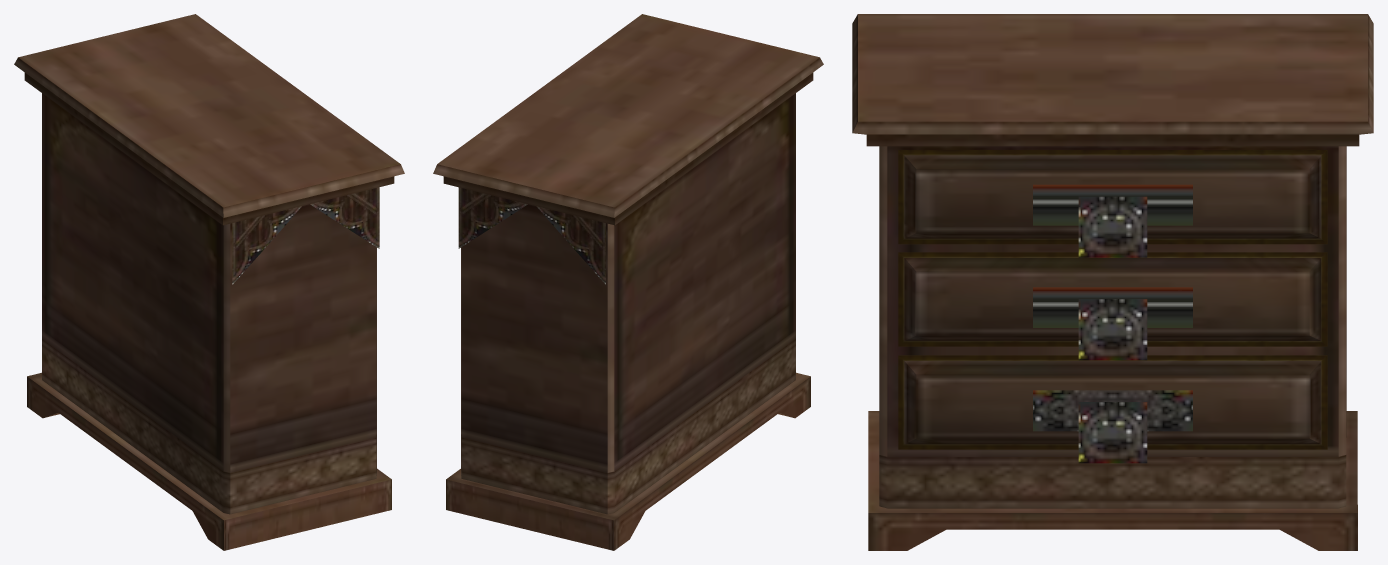
Rendered from o_mdl_env_propFurnitureCabinetA-transformed.glb.
3 renders of one model, left to right at view 1: azimuth 30°, elevation 25°; view 2: azimuth 150°, elevation 25°; view 3: azimuth 270°, elevation 25°, orthographic. The views are drawn at different scales.
Visible parts, largest first — view 1: default; view 2: default; view 3: default.
Part boxes in pixels (x1,y1,x2,y2): default: (14,14,404,550); default: (433,14,823,550); default: (852,14,1373,550).
Bounding box in the file's own units: 0.5182 × 0.9116 × 0.9962.
2 materials, 2 textured.
